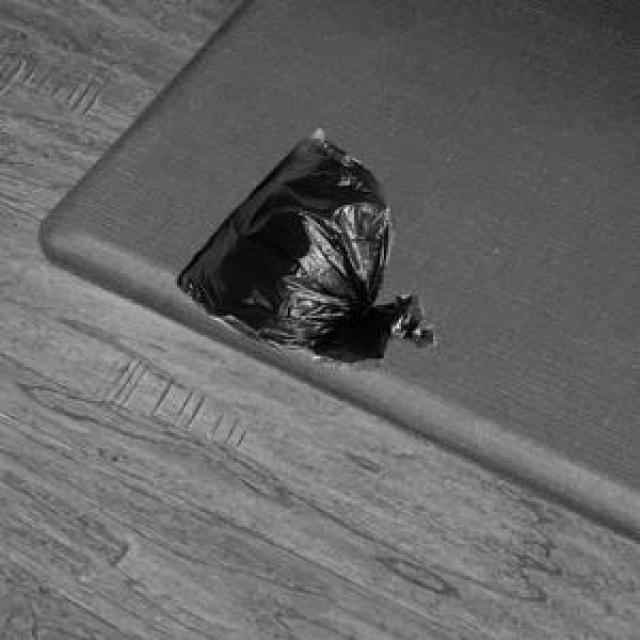miscellaneous trash: (173, 126, 431, 367)
